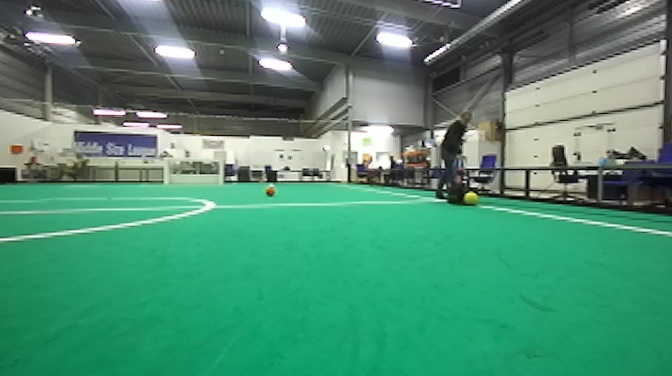ball: (463, 189, 479, 207), (264, 182, 277, 198)
goal: (164, 160, 223, 187)
goalpost: (163, 159, 169, 187), (219, 160, 223, 185)
human: (434, 106, 477, 203)
robot: (446, 155, 473, 207)
